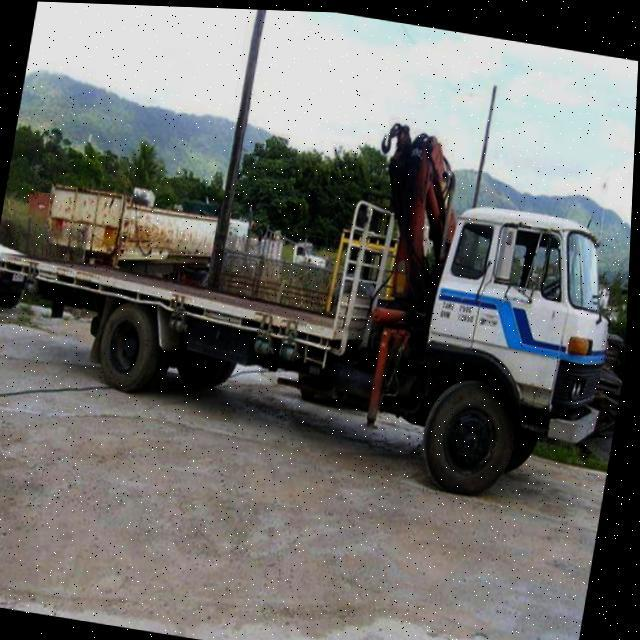truck: (0, 54, 638, 508)
